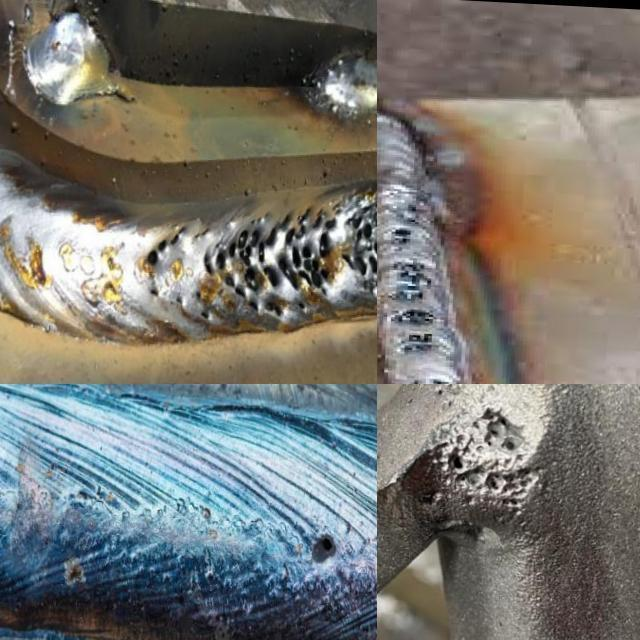defect: (205, 203, 339, 321), (442, 434, 534, 529), (340, 193, 377, 296), (137, 215, 190, 274), (380, 257, 439, 306), (470, 407, 520, 454), (304, 530, 344, 571), (388, 305, 442, 328), (394, 330, 437, 357), (380, 226, 417, 249), (432, 384, 461, 409), (195, 222, 215, 244), (146, 283, 165, 304), (411, 375, 452, 384), (196, 308, 211, 324), (171, 294, 184, 306), (403, 395, 415, 408), (194, 287, 203, 301)
